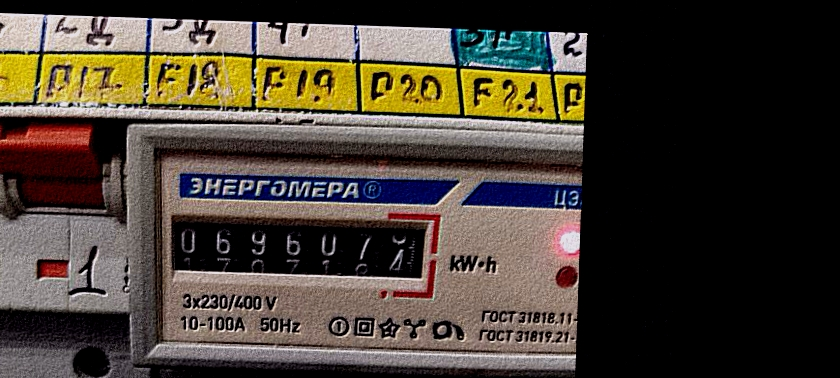0: (177, 225, 199, 256), (319, 229, 339, 259)
4: (386, 246, 406, 276)
6: (283, 228, 304, 259), (213, 226, 233, 256)
7: (354, 229, 373, 261)
9: (248, 228, 269, 257)
screen: (158, 199, 444, 300)
